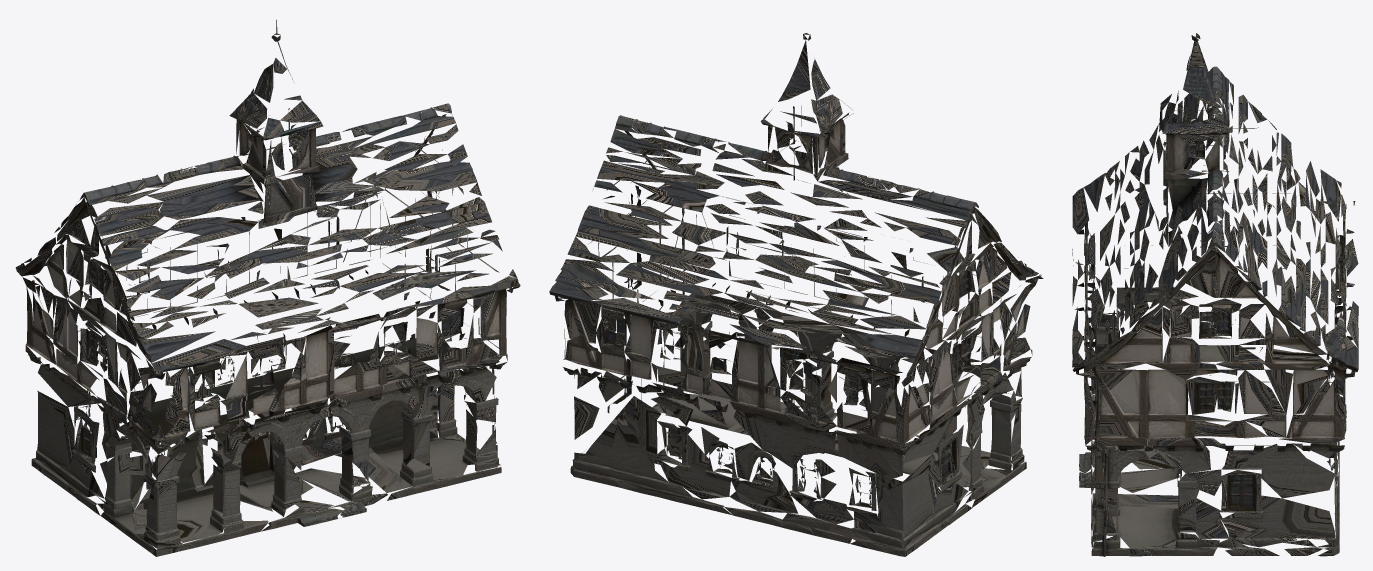
File: bld_townhall_a_LOD1.glb
The picture shows the model from 3 angles, left to right: view 1: azimuth 30°, elevation 25°; view 2: azimuth 150°, elevation 25°; view 3: azimuth 270°, elevation 25°; orthographic projection. The views are drawn at different scales.
Parts seen in each view (by area): view 1: geometry_0; view 2: geometry_0; view 3: geometry_0.
Part boxes in pixels (bbox=[...]): geometry_0: bbox=[15, 19, 520, 556]; geometry_0: bbox=[549, 33, 1043, 556]; geometry_0: bbox=[1072, 33, 1358, 556].
Size of the model in its own units: 9.91 by 12 by 6.79.
1 material, 1 textured.
